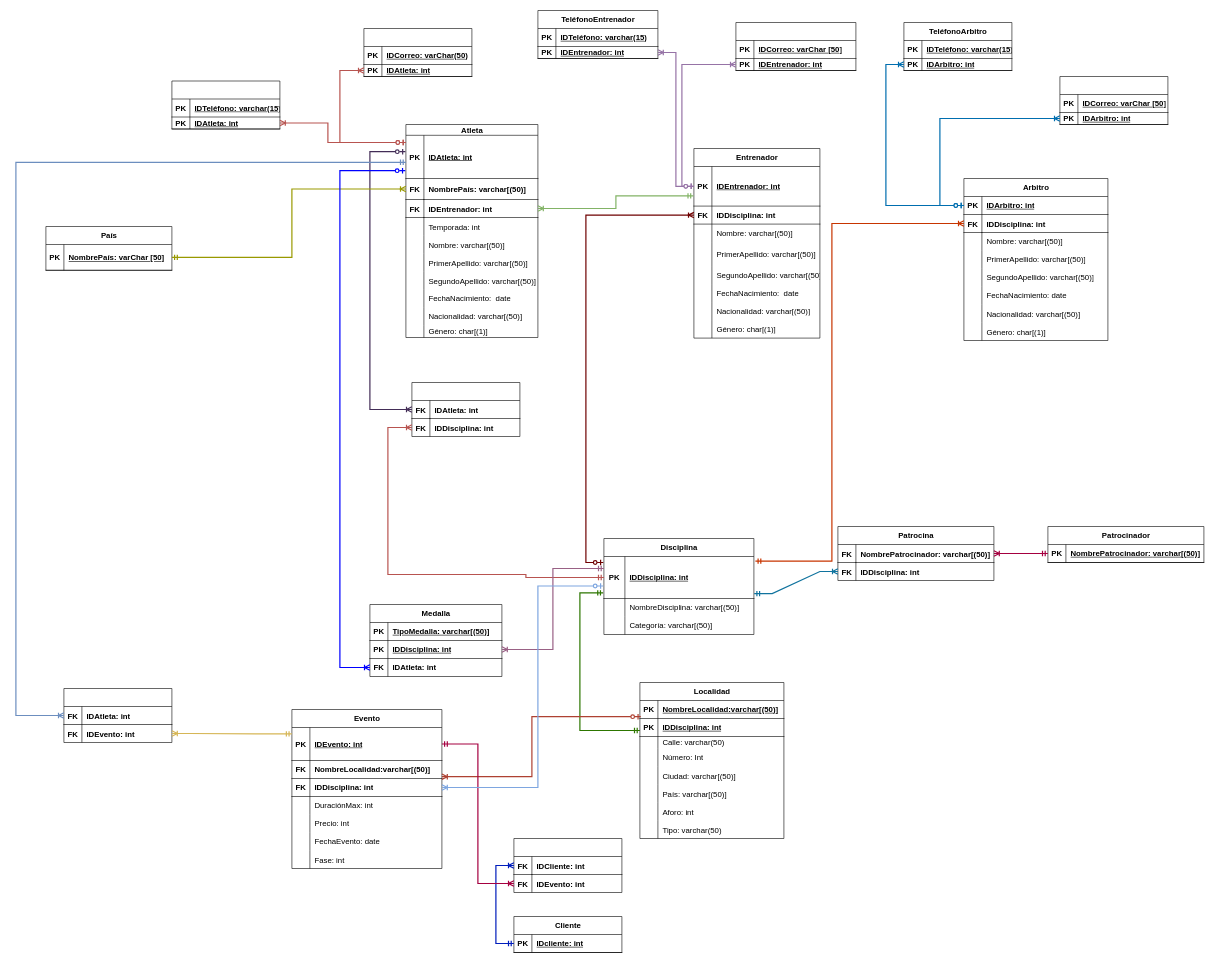
This 1214x963 diagram has some shape labels left out. Here are the shapes that lost their labels. From the top down, the box of each, then its label:
(363, 28, 472, 76): CorreoAtleta
(735, 22, 856, 70): CorreoEntrenador
(171, 80, 280, 129): TeléfonoAtleta
(1059, 76, 1168, 124): CorreoArbitro
(411, 382, 520, 436): Participa
(63, 688, 172, 742): Concursa
(513, 838, 622, 892): CompraEntrada
